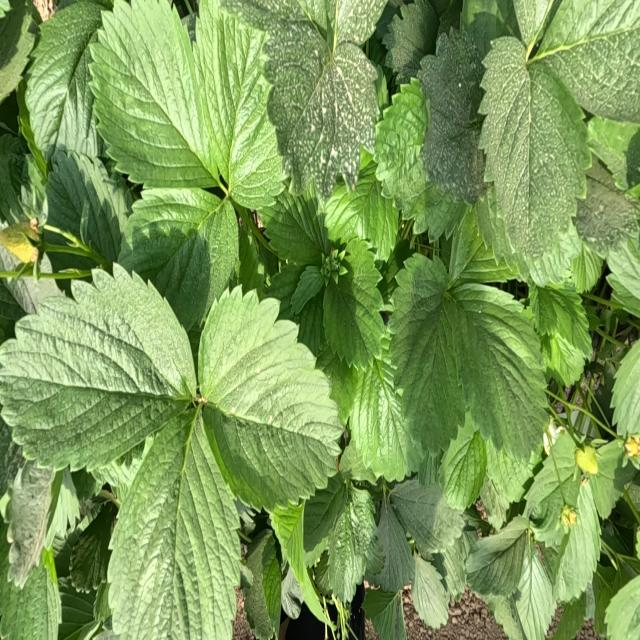Leaves: (4, 268, 192, 468), (200, 285, 342, 510), (109, 414, 239, 637), (478, 36, 589, 283), (88, 2, 214, 188), (265, 25, 379, 199), (193, 0, 282, 209), (447, 282, 547, 459), (120, 189, 239, 330), (390, 256, 466, 450), (374, 79, 465, 241), (536, 1, 639, 122), (25, 5, 100, 165), (419, 31, 485, 204), (478, 190, 580, 290), (46, 148, 133, 264), (270, 501, 338, 639), (350, 361, 418, 481), (323, 240, 386, 367), (6, 460, 64, 586), (328, 483, 382, 602), (525, 431, 580, 547), (324, 178, 398, 261), (534, 281, 591, 385), (267, 265, 328, 357), (555, 485, 601, 602), (264, 185, 328, 266), (448, 209, 517, 284), (0, 555, 61, 639), (466, 517, 527, 597), (439, 413, 487, 510), (383, 0, 438, 81), (243, 533, 282, 639), (391, 478, 444, 554), (303, 476, 347, 567), (516, 538, 555, 639), (70, 504, 116, 589), (376, 495, 415, 593), (589, 439, 634, 519), (460, 0, 521, 57), (1, 1, 36, 100), (589, 118, 639, 183), (317, 347, 357, 421), (331, 1, 387, 50), (45, 469, 80, 547), (611, 340, 640, 434), (411, 556, 448, 627), (486, 447, 531, 501), (0, 131, 26, 223), (605, 575, 639, 639), (435, 535, 467, 600), (513, 1, 554, 46), (237, 225, 264, 292), (371, 588, 406, 639), (291, 265, 327, 313), (588, 473, 619, 519), (281, 568, 300, 619)
Strawberries: (0, 220, 39, 265), (576, 445, 597, 474), (561, 507, 575, 528), (625, 437, 639, 455)
